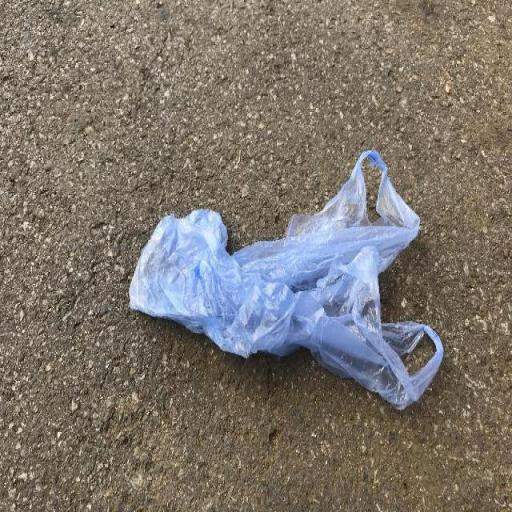plastic-bag: (136, 146, 448, 420)
